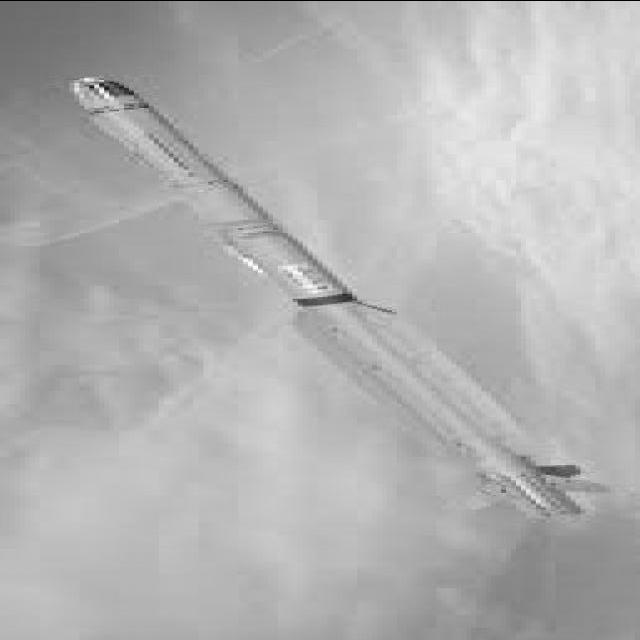Missile: (50, 69, 633, 522)
